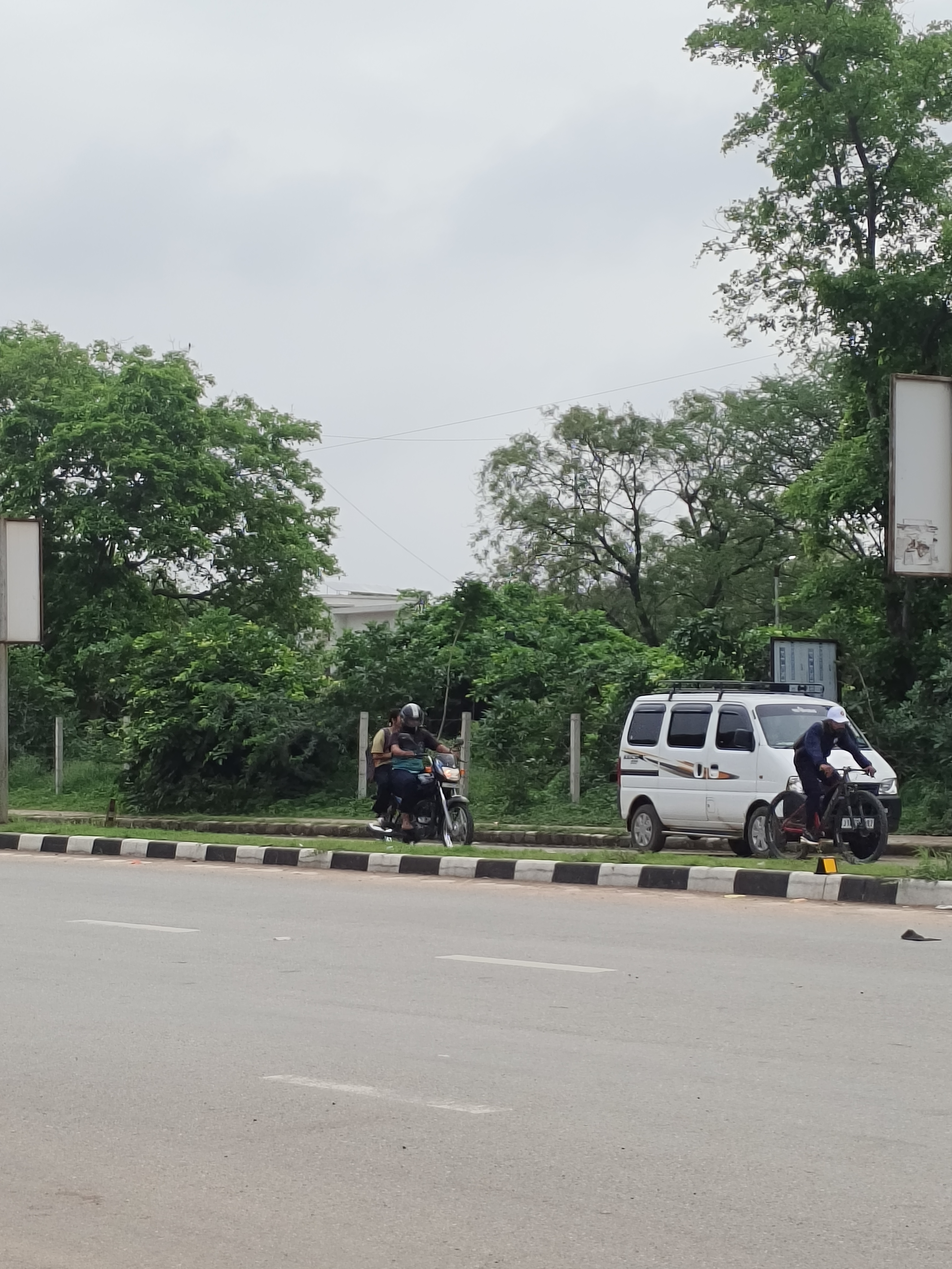BikeWithRider: (773, 697, 900, 867), (358, 698, 481, 851)
Helmet: (395, 700, 426, 731)
NoHelmet: (819, 700, 854, 735)
